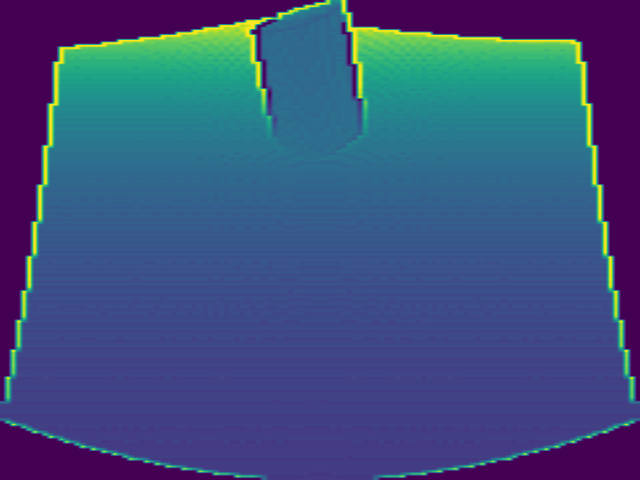cylinder: (251, 3, 365, 153)
